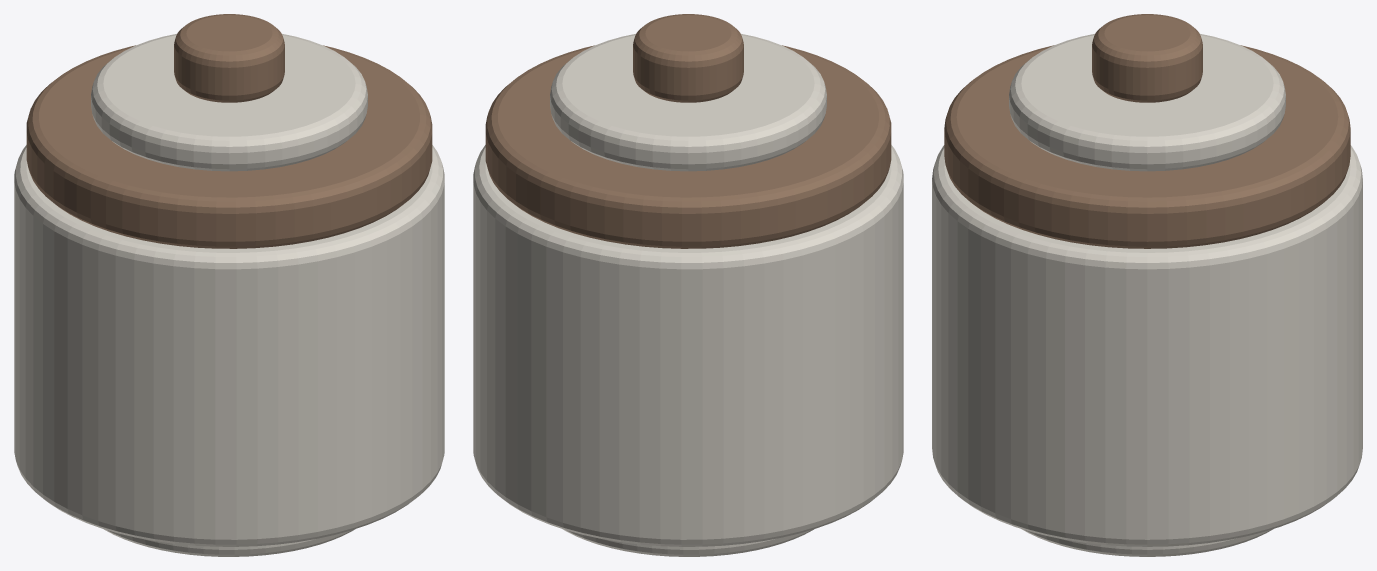
Rendered from cafe-sugar-jar-01.glb.
3 renders of one model, left to right at view 1: azimuth 30°, elevation 25°; view 2: azimuth 150°, elevation 25°; view 3: azimuth 270°, elevation 25°, orthographic.
Visible parts, largest first — view 1: cafe-sugar-jar-01; view 2: cafe-sugar-jar-01; view 3: cafe-sugar-jar-01.
Boxes of the visible parts, box(x1,y1,x2,y2) form: cafe-sugar-jar-01: box(14, 14, 444, 556); cafe-sugar-jar-01: box(473, 14, 903, 556); cafe-sugar-jar-01: box(932, 14, 1362, 556).
Bounding box in the file's own units: 0.14 × 0.165 × 0.14.
